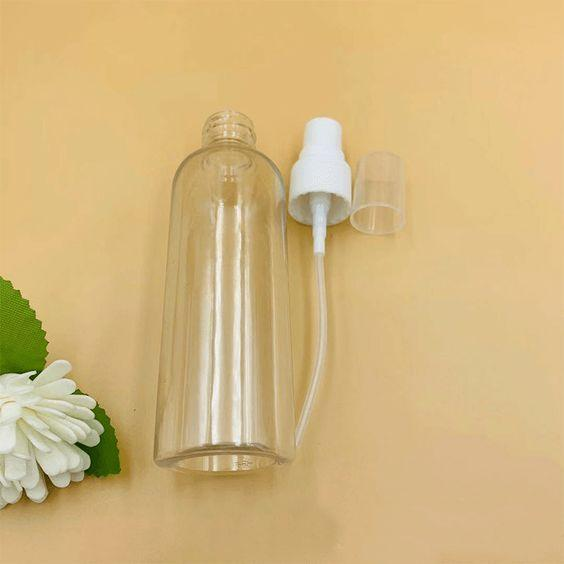HDPE: (283, 115, 354, 257)
PETE: (151, 105, 296, 480)
PP: (348, 148, 409, 238)
PVC: (294, 251, 332, 450)
